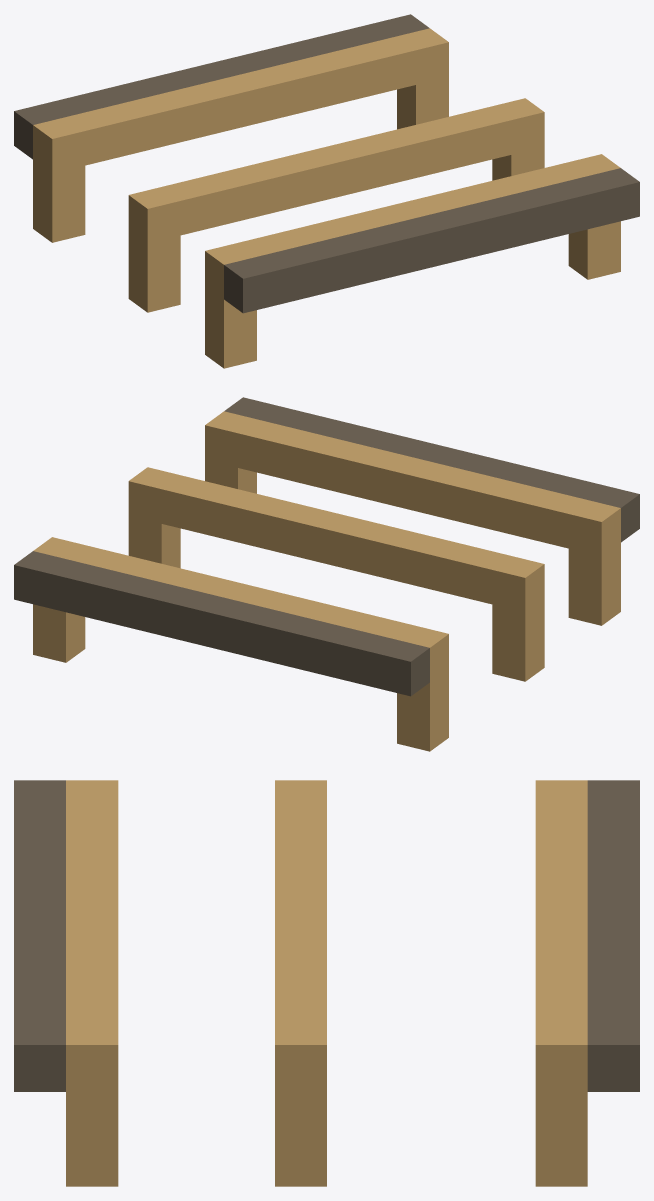
File: raft-stage-2.gltf
The picture shows the model from 3 angles, top to bottom: view 1: azimuth 30°, elevation 25°; view 2: azimuth 150°, elevation 25°; view 3: azimuth 270°, elevation 25°; orthographic projection. The views are drawn at different scales.
Visible parts, largest first — view 1: raft-stage-2; view 2: raft-stage-2; view 3: raft-stage-2.
Boxes of the visible parts, bbox=[...] form: raft-stage-2: bbox=[14, 14, 639, 368]; raft-stage-2: bbox=[14, 397, 639, 751]; raft-stage-2: bbox=[14, 780, 639, 1186].
Size of the model in its own units: 3 by 0.75 by 3.
